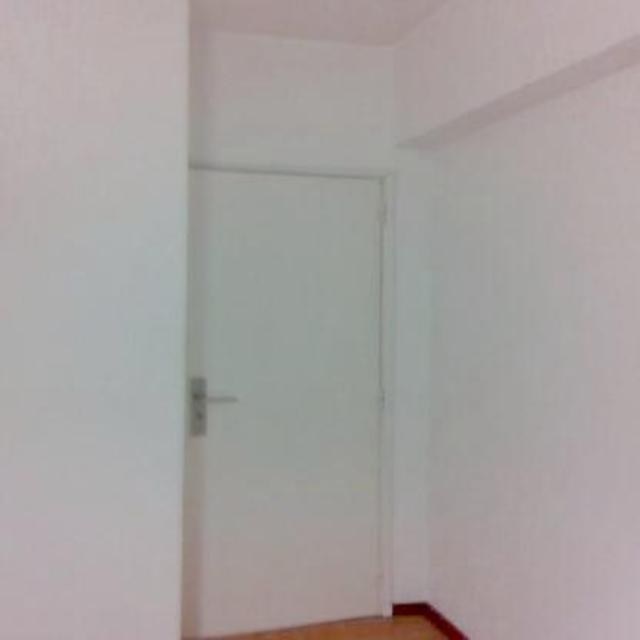door: (182, 165, 390, 639)
